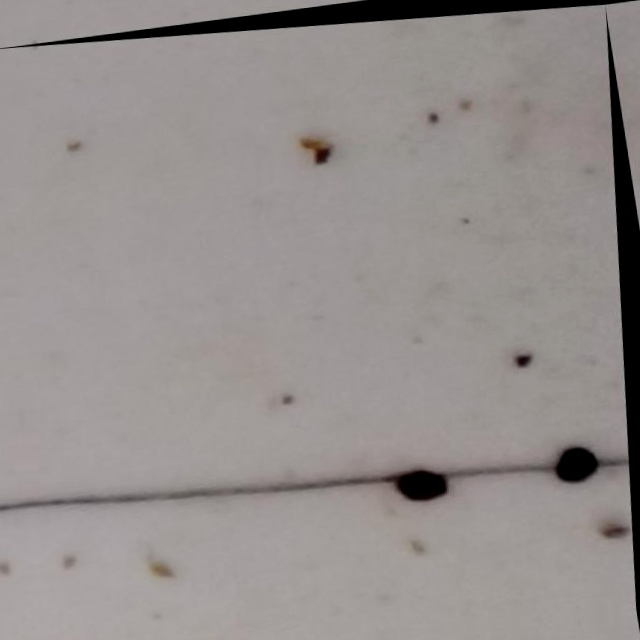varroa: (395, 461, 457, 505), (558, 441, 607, 485)
